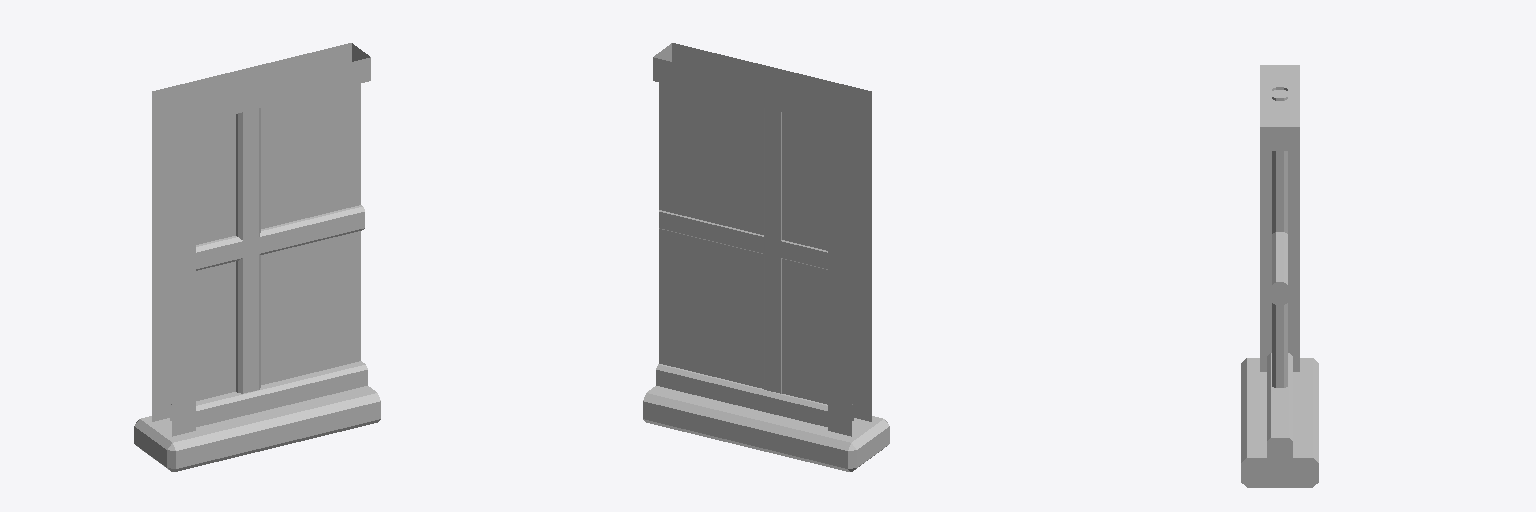
The model's file is window_full_left_modular.obj.
3 renders of one model, left to right at view 1: azimuth 30°, elevation 25°; view 2: azimuth 150°, elevation 25°; view 3: azimuth 270°, elevation 25°, orthographic.
Parts seen in each view (by area): view 1: window_full_left_modular; view 2: window_full_left_modular; view 3: window_full_left_modular.
Boxes of the visible parts, <box> form: window_full_left_modular: <box>134,43,380,471</box>; window_full_left_modular: <box>643,43,889,471</box>; window_full_left_modular: <box>1241,65,1318,487</box>.
Size of the model in its own units: 1.85 by 3.02 by 0.6.